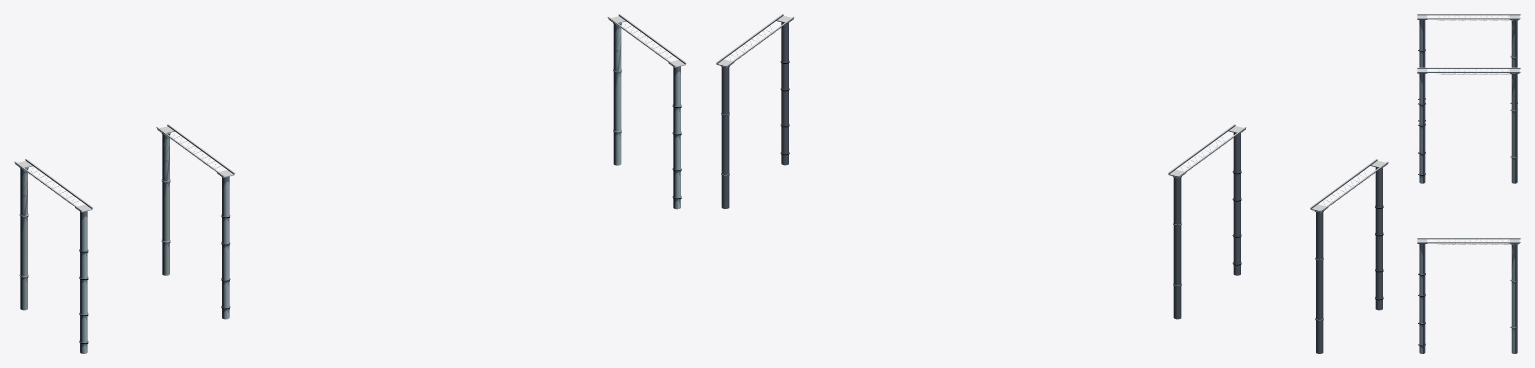
The picture shows the model from 3 angles, left to right: view 1: azimuth 30°, elevation 25°; view 2: azimuth 150°, elevation 25°; view 3: azimuth 270°, elevation 25°; orthographic projection. The views are drawn at different scales.
Parts seen in each view (by area): view 1: 15-aa, 15-A, 15-A.1; view 2: 15-A.1, 15-aa, 15-A; view 3: 15-A.1, 15-aa, 15-A, 15-材质.17 (×2).
Boxes of the visible parts, <box> form: 15-aa: <box>607,14,686,209</box>; 15-A: <box>14,159,92,353</box>; 15-A.1: <box>156,124,235,319</box>; 15-A.1: <box>1168,124,1246,319</box>; 15-aa: <box>716,14,794,208</box>; 15-A: <box>1310,159,1388,353</box>; 15-A.1: <box>1417,67,1520,183</box>; 15-aa: <box>1417,238,1520,353</box>; 15-A: <box>1417,14,1520,121</box>; 15-材质.17 (×2): <box>1436,15,1519,244</box>.
Bounding box in the file's own units: 27.95 × 6.42 × 5.34.
5 materials, 3 textured.
